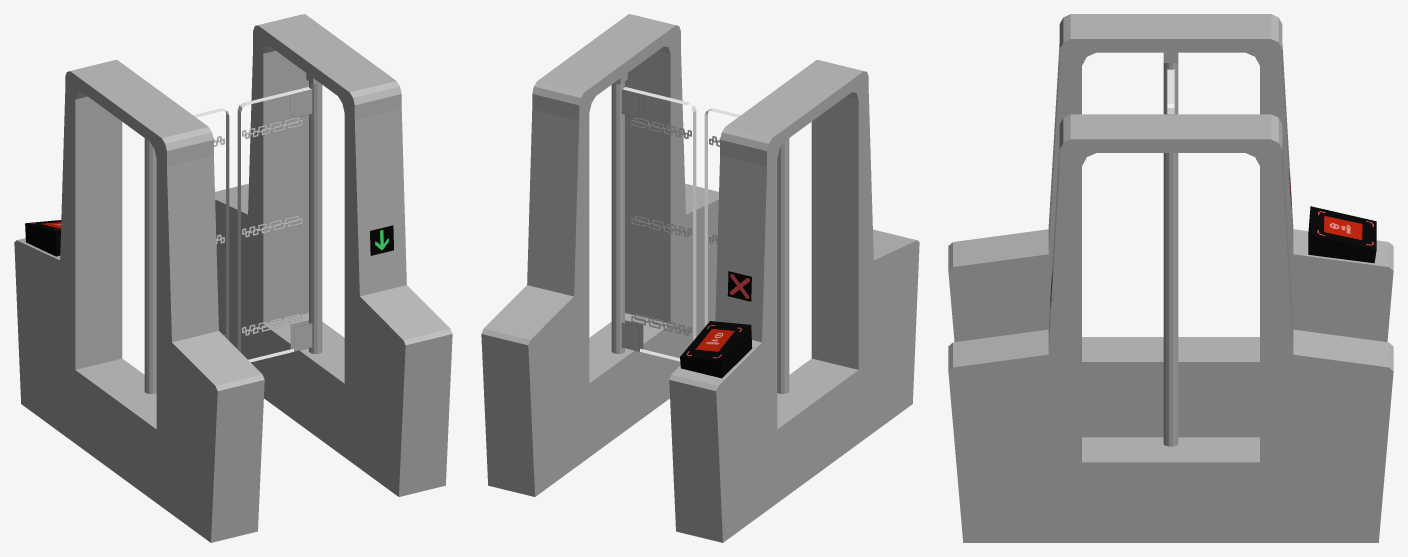
Rendered from nyc_subway_fare_gate_5_exit_closed.obj.
The picture shows the model from 3 angles, left to right: view 1: azimuth 30°, elevation 25°; view 2: azimuth 150°, elevation 25°; view 3: azimuth 270°, elevation 25°; orthographic projection. The views are drawn at different scales.
Visible parts, largest first — view 1: left, cube, right, doorLeft; view 2: left, cube, right, doorLeft; view 3: left, cube, right.
Part boxes in pixels (x1,y1,x2,y2): left: (14,46,452,542); cube: (25,14,401,256); right: (75,82,322,502); doorLeft: (193,87,312,362); left: (481,46,919,542); cube: (532,14,868,378); right: (611,82,858,502); doorLeft: (621,87,740,361); left: (948,44,1393,542); cube: (1050,14,1376,306); right: (1082,63,1259,446).
Size of the model in its own units: 1.25 by 1.88 by 1.88.
Materials: 1 (1 with a texture image).
